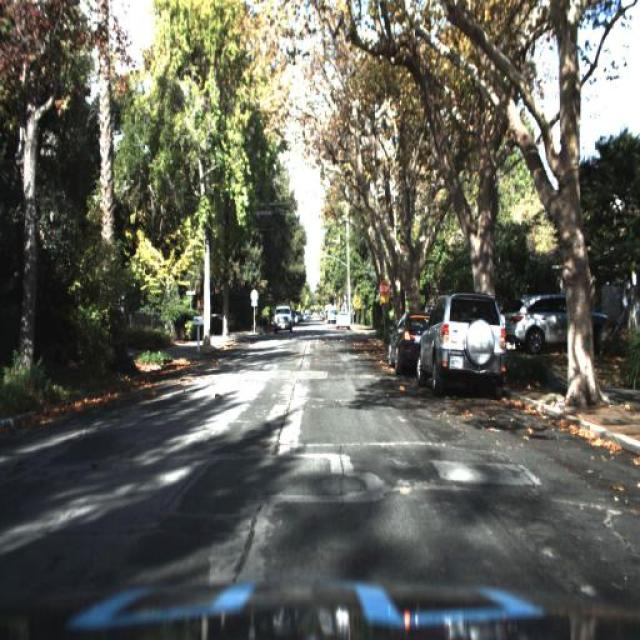car: (416, 290, 510, 395), (506, 284, 612, 354), (385, 312, 427, 373), (270, 302, 294, 337), (333, 306, 352, 335)
